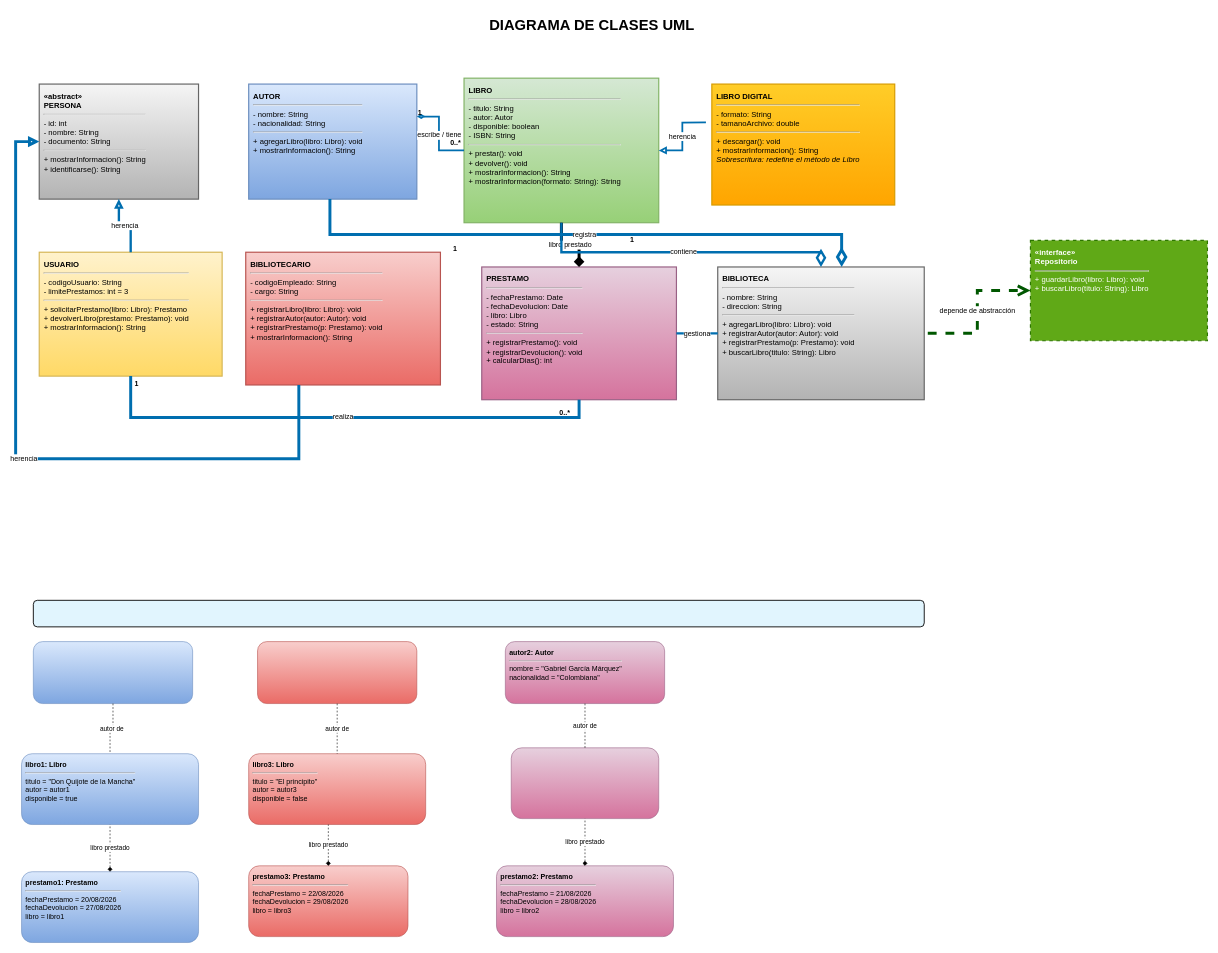
The diagram is 1218 pixels wide and 953 high, and some of its shapes have lost their labels. The centre of each missing label's shape, as x and y in pixels:
autor1: Autor nombre = "Miguel de Cervantes" nacionalidad = "Española": (113,672)
autor3: Autor nombre = "Antoine de Saint-Exupéry" nacionalidad = "Francesa": (337,672)
DATOS CONCRETOS DEL SISTEMA — 3 LIBROS, AUTORES Y PRÉSTAMOS: (478,613)
libro2: Libro titulo = "Cien años de soledad" autor = autor2 disponible = true: (585,783)
